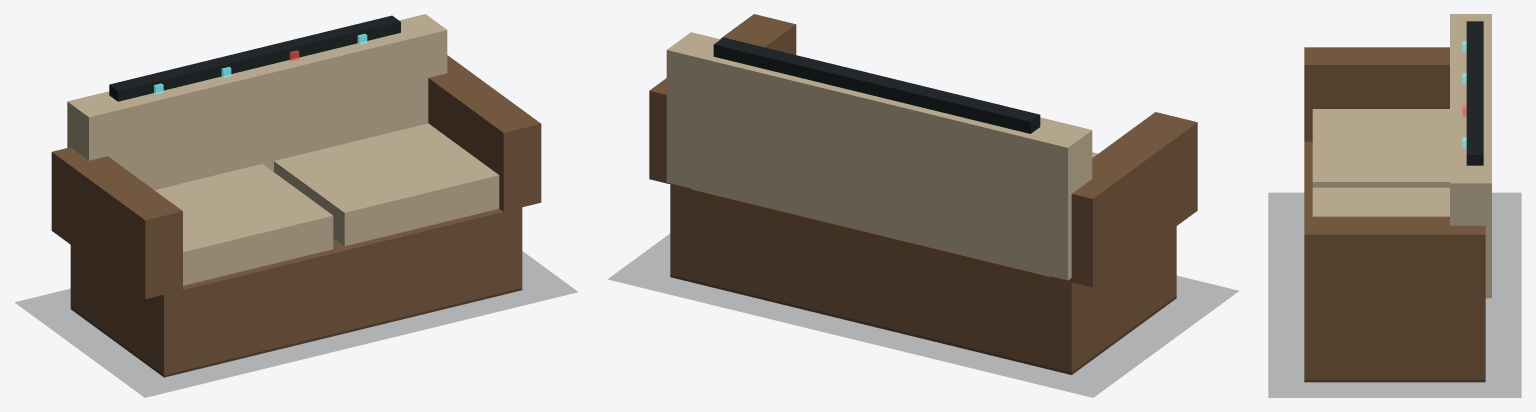
File: hp_room_rm_home_observation_sofa.glb
3 renders of one model, left to right at view 1: azimuth 30°, elevation 25°; view 2: azimuth 150°, elevation 25°; view 3: azimuth 270°, elevation 25°, orthographic. The views are drawn at different scales.
Visible parts, largest first — view 1: sofa_base, sofa_back, sofa_cushion_r, arm_left, sofa_cushion_l, contact_shadow, arm_right, sensor_bar; view 2: sofa_back, sofa_base, contact_shadow, arm_left, sensor_bar, arm_right; view 3: contact_shadow, arm_right, sofa_base, sofa_cushion_l, arm_left, sofa_back, sofa_cushion_r, sensor_bar.
Boxes of the visible parts, x1=… form: sofa_base: x1=70, y1=207, x2=522, y2=377; sofa_back: x1=67, y1=14, x2=447, y2=189; sofa_cushion_r: x1=274, y1=123, x2=499, y2=246; arm_left: x1=51, y1=147, x2=182, y2=299; sofa_cushion_l: x1=154, y1=164, x2=333, y2=285; contact_shadow: x1=15, y1=251, x2=577, y2=397; arm_right: x1=428, y1=55, x2=541, y2=211; sensor_bar: x1=109, y1=15, x2=400, y2=101; sofa_back: x1=666, y1=32, x2=1092, y2=280; sofa_base: x1=670, y1=184, x2=1176, y2=374; contact_shadow: x1=608, y1=234, x2=1238, y2=397; arm_left: x1=1050, y1=112, x2=1197, y2=287; sensor_bar: x1=713, y1=37, x2=1040, y2=133; arm_right: x1=649, y1=14, x2=796, y2=189; contact_shadow: x1=1268, y1=193, x2=1521, y2=397; arm_right: x1=1304, y1=216, x2=1485, y2=310; sofa_base: x1=1304, y1=141, x2=1485, y2=382; sofa_cushion_l: x1=1312, y1=109, x2=1449, y2=187; arm_left: x1=1304, y1=47, x2=1449, y2=141; sofa_back: x1=1450, y1=14, x2=1491, y2=298; sofa_cushion_r: x1=1312, y1=187, x2=1449, y2=216; sensor_bar: x1=1466, y1=21, x2=1483, y2=165.
Size of the model in its own units: 2.3 by 1.09 by 1.2.
